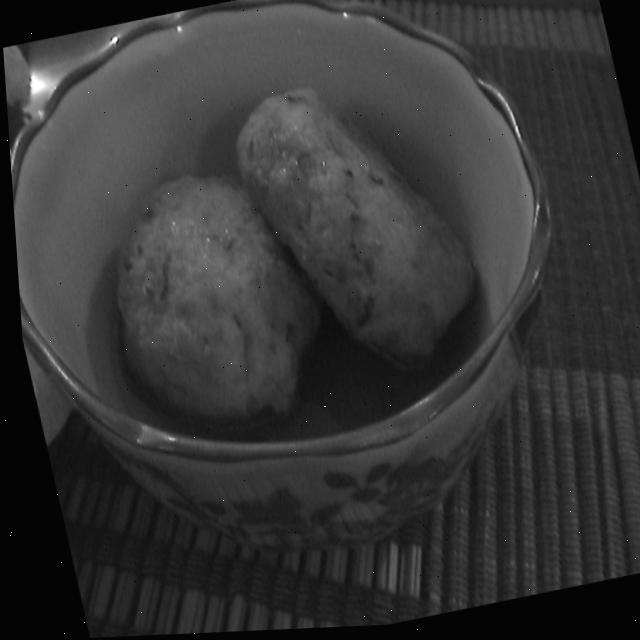熟制海鲜: (69, 64, 502, 455)
